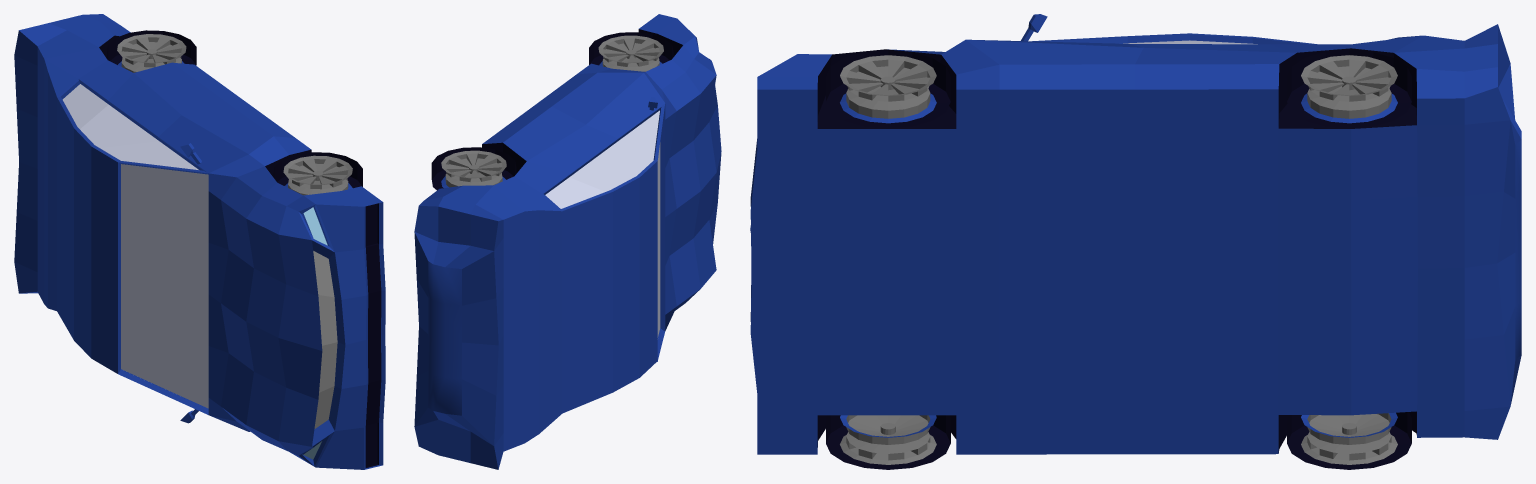
The model's file is CarBlue.fbx.
The picture shows the model from 3 angles, left to right: view 1: azimuth 30°, elevation 25°; view 2: azimuth 150°, elevation 25°; view 3: azimuth 270°, elevation 25°; orthographic projection. The views are drawn at different scales.
Visible parts, largest first — view 1: Cube; view 2: Cube; view 3: Cube.
Boxes of the visible parts, left/top/right/bottom form: Cube: left=14, top=14, right=385, bottom=469; Cube: left=414, top=14, right=721, bottom=469; Cube: left=750, top=14, right=1521, bottom=469.
Bounding box in the file's own units: 143 × 243 × 439.
